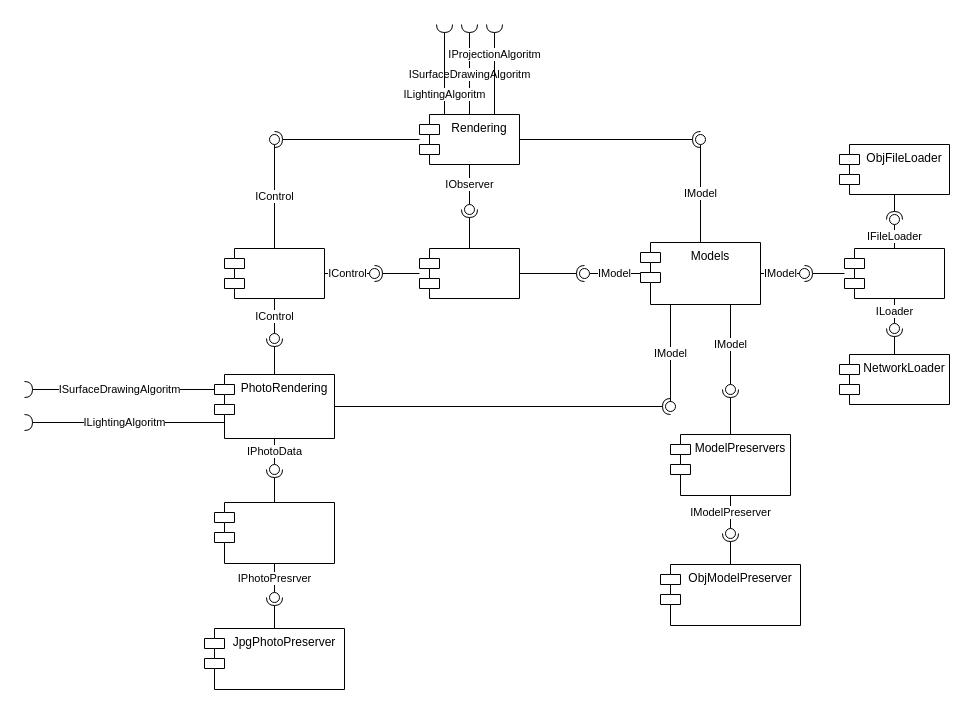
Image size: 967x707. Some labels were removed from this diagram. The centre of each missing label's shape, as x and y in pixels:
"Editor" belongs at pixel 469 273.
"Loading" belongs at pixel 894 273.
"PhotoPreservers" belongs at pixel 274 533.
"ViewUI" belongs at pixel 274 273.
